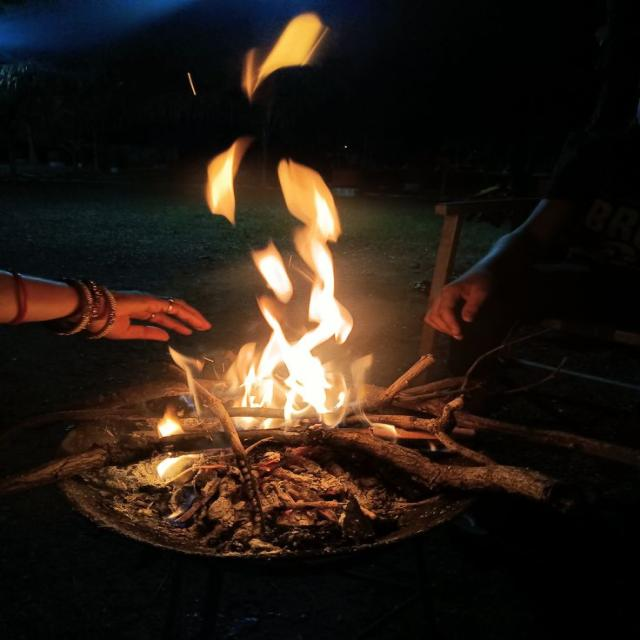fire: (243, 188, 349, 415), (206, 143, 236, 224)
